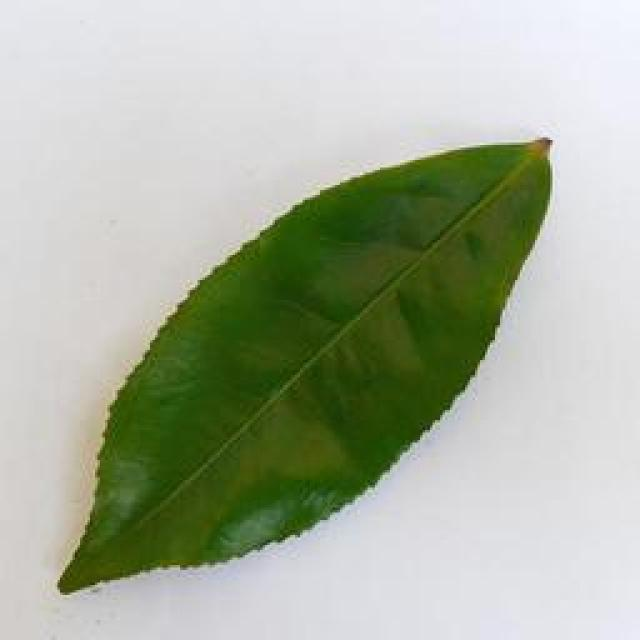Healthy: (29, 133, 587, 595)
